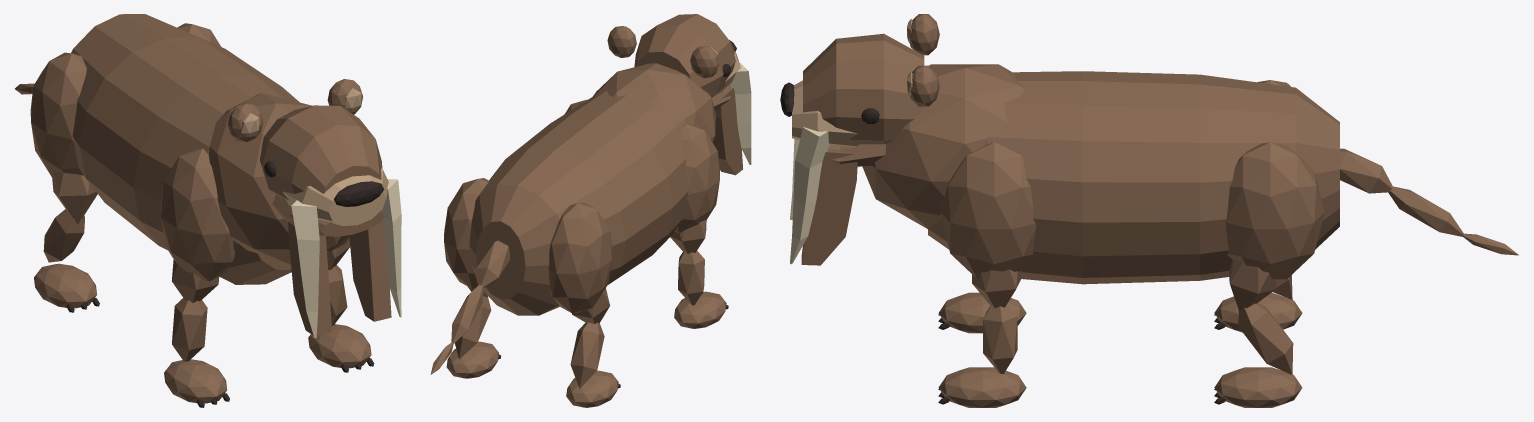
3 renders of one model, left to right at view 1: azimuth 30°, elevation 25°; view 2: azimuth 150°, elevation 25°; view 3: azimuth 270°, elevation 25°, orthographic. The views are drawn at different scales.
Parts seen in each view (by area): view 1: surface_warm_brown, surface_ivory_canines, surface_pale_muzzle, surface_eyes_nose_claws; view 2: surface_warm_brown, surface_ivory_canines; view 3: surface_warm_brown, surface_ivory_canines, surface_pale_muzzle, surface_eyes_nose_claws.
Boxes of the visible parts, x1=… form: surface_warm_brown: x1=15, y1=14, x2=391, y2=403; surface_ivory_canines: x1=291, y1=179, x2=401, y2=338; surface_pale_muzzle: x1=241, y1=88, x2=388, y2=225; surface_eyes_nose_claws: x1=66, y1=161, x2=384, y2=407; surface_warm_brown: x1=430, y1=14, x2=742, y2=407; surface_ivory_canines: x1=730, y1=63, x2=751, y2=164; surface_warm_brown: x1=801, y1=14, x2=1518, y2=407; surface_ivory_canines: x1=790, y1=127, x2=829, y2=264; surface_pale_muzzle: x1=792, y1=19, x2=912, y2=146; surface_eyes_nose_claws: x1=780, y1=82, x2=1226, y2=404.
Size of the model in its own units: 0.3199 by 0.491 by 1.01.
